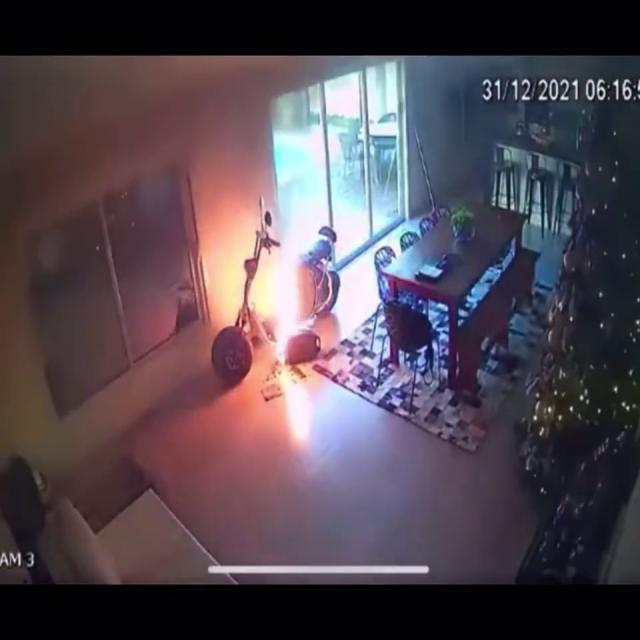Fire: (252, 192, 316, 443)
